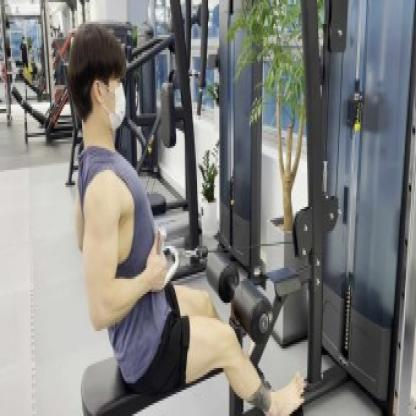Seated Cable Rows: (79, 4, 414, 416)
